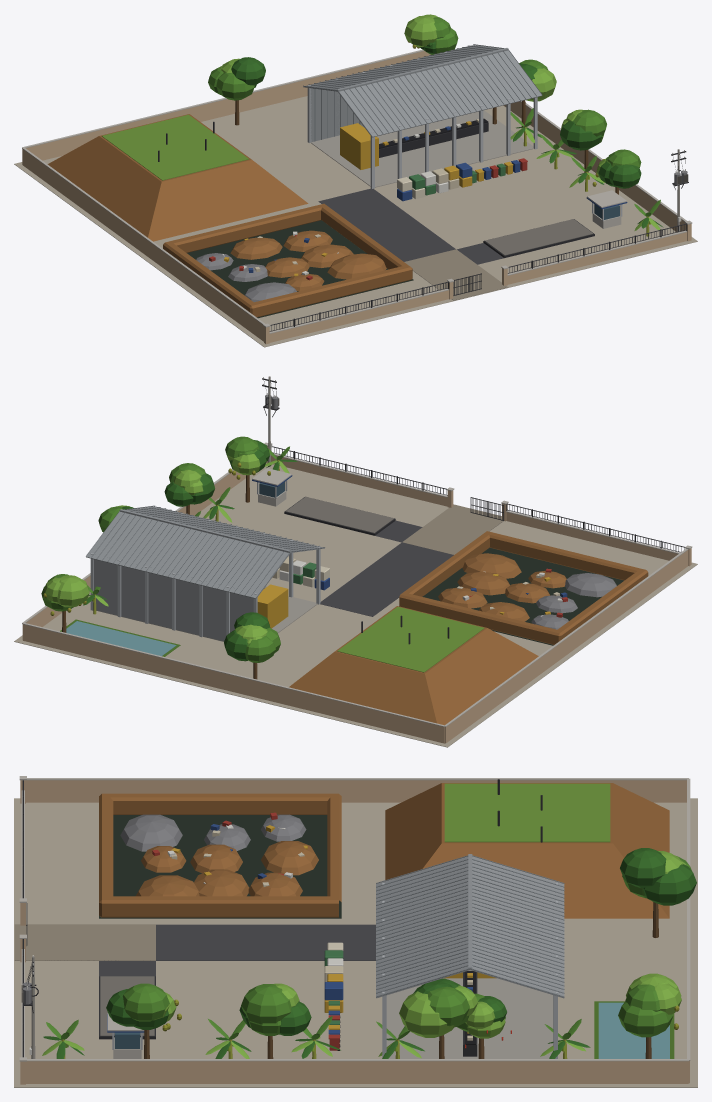
Rendered from waste.glb.
The picture shows the model from 3 angles, top to bottom: view 1: azimuth 30°, elevation 25°; view 2: azimuth 150°, elevation 25°; view 3: azimuth 270°, elevation 25°; orthographic projection. The views are drawn at different scales.
Parts seen in each view (by area): view 1: body; view 2: body; view 3: body.
Boxes of the visible parts, <box> form: body: <box>14,14,697,347</box>; body: <box>14,376,697,747</box>; body: <box>14,776,697,1087</box>.
Size of the model in its own units: 48.75 by 9.53 by 47.9.
